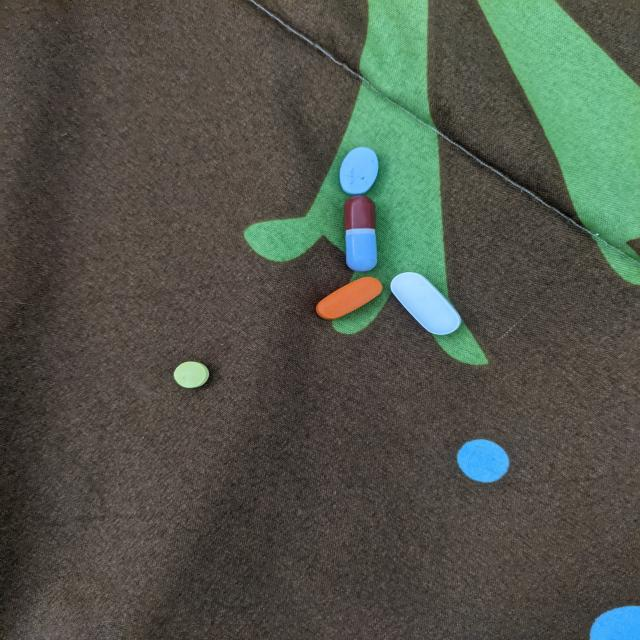non-organic waste: (389, 271, 463, 336), (315, 276, 384, 321), (343, 195, 379, 272), (338, 146, 381, 196), (173, 361, 211, 388)
